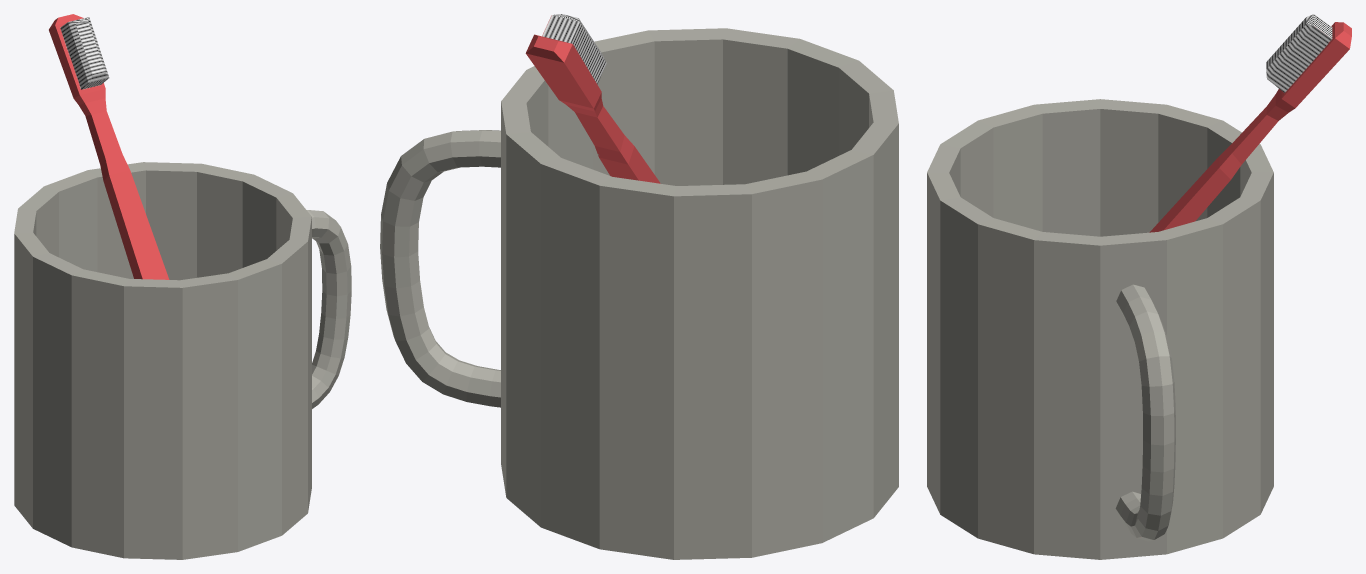
Rendered from cup_toothbrush_combo.fbx.
The picture shows the model from 3 angles, left to right: view 1: azimuth 30°, elevation 25°; view 2: azimuth 150°, elevation 25°; view 3: azimuth 270°, elevation 25°; orthographic projection. The views are drawn at different scales.
Visible parts, largest first — view 1: cup_toothbrush_baked; view 2: cup_toothbrush_baked; view 3: cup_toothbrush_baked.
Part boxes in pixels (x1=…): cup_toothbrush_baked: x1=14, y1=14, x2=351, y2=559; cup_toothbrush_baked: x1=380, y1=14, x2=898, y2=559; cup_toothbrush_baked: x1=927, y1=14, x2=1351, y2=559.
Size of the model in its own units: 16.06 by 18.31 by 14.96.
Materials: 1 (1 with a texture image).
